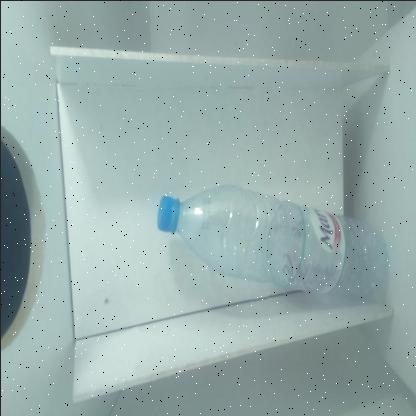Plastic Bottle: (157, 185, 386, 292)
